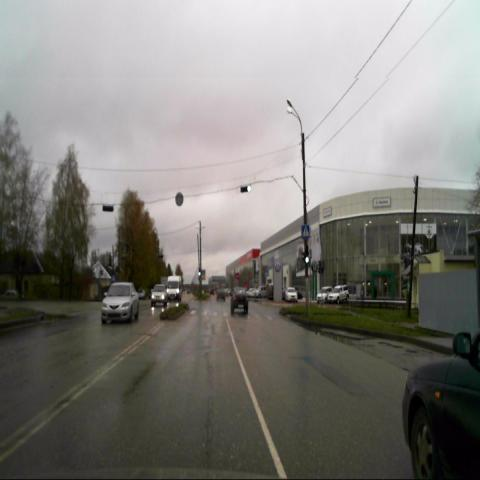5_19_1: (300, 223, 310, 240)
